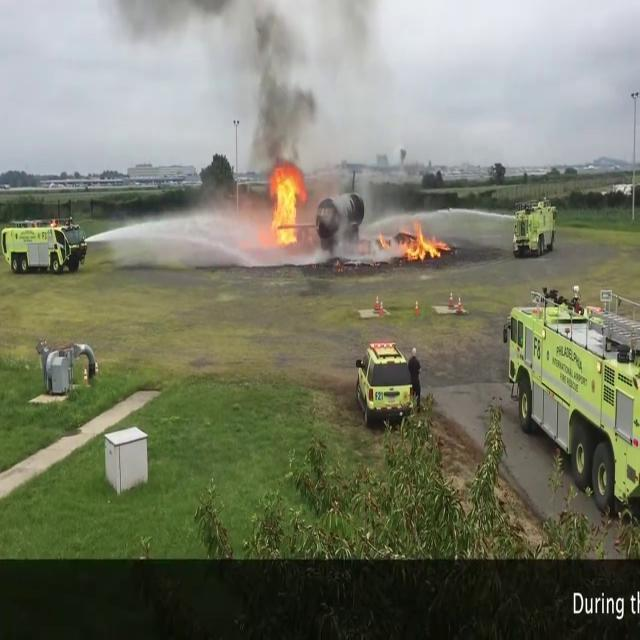Fire: (376, 213, 452, 263), (264, 162, 308, 246)
Smoke: (235, 0, 328, 166)
